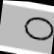no answer: (21, 12, 54, 44)
